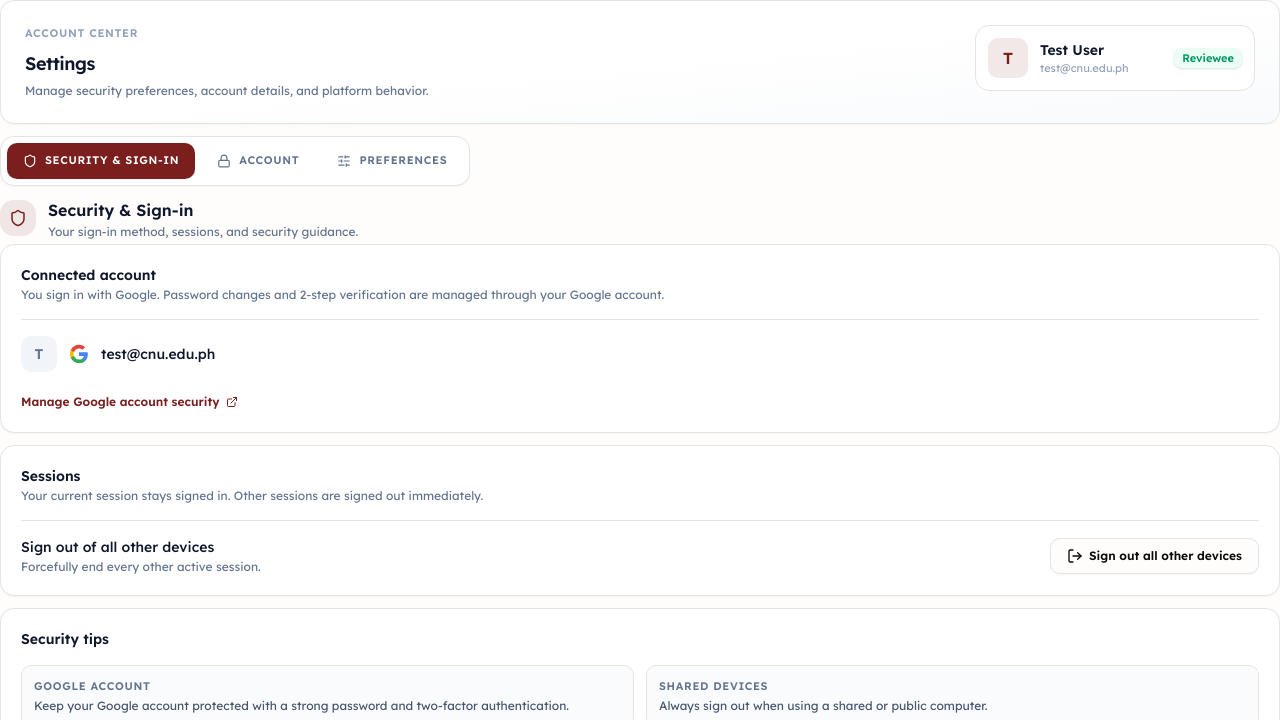
Test case: SettingsPage preferences › renders the Preferences tab for non-admin roles
Click the button "Preferences" at (392, 160), box [321,142,463,178]
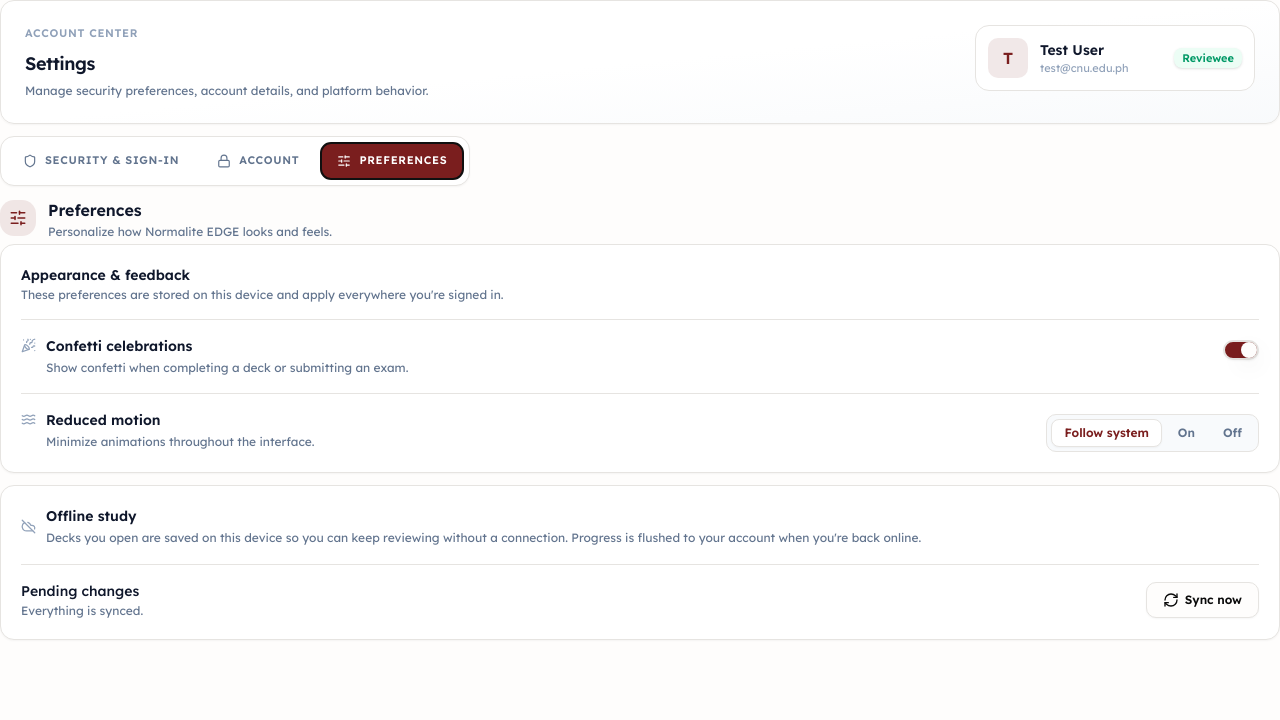
Result: the heading "Preferences" is shown at [48,200,142,220]
Result: the text "Confetti celebrations" is shown at [46,336,192,354]
Result: the text "Reduced motion" is shown at [46,411,160,429]
